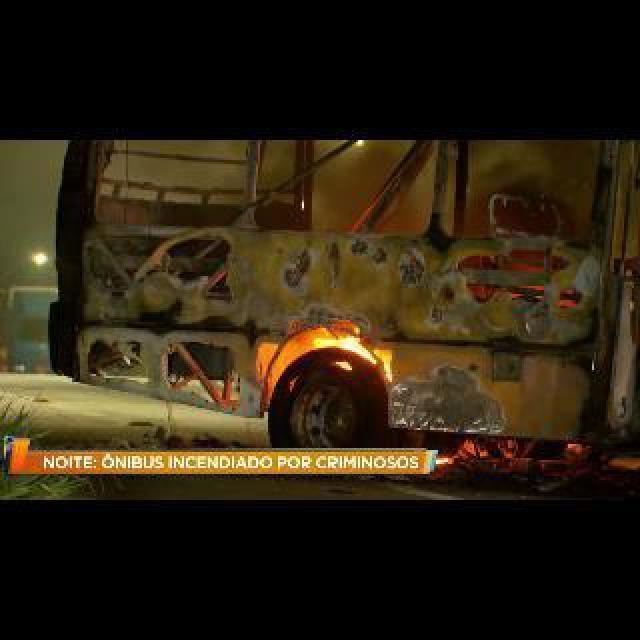Fire: (268, 322, 394, 382)
